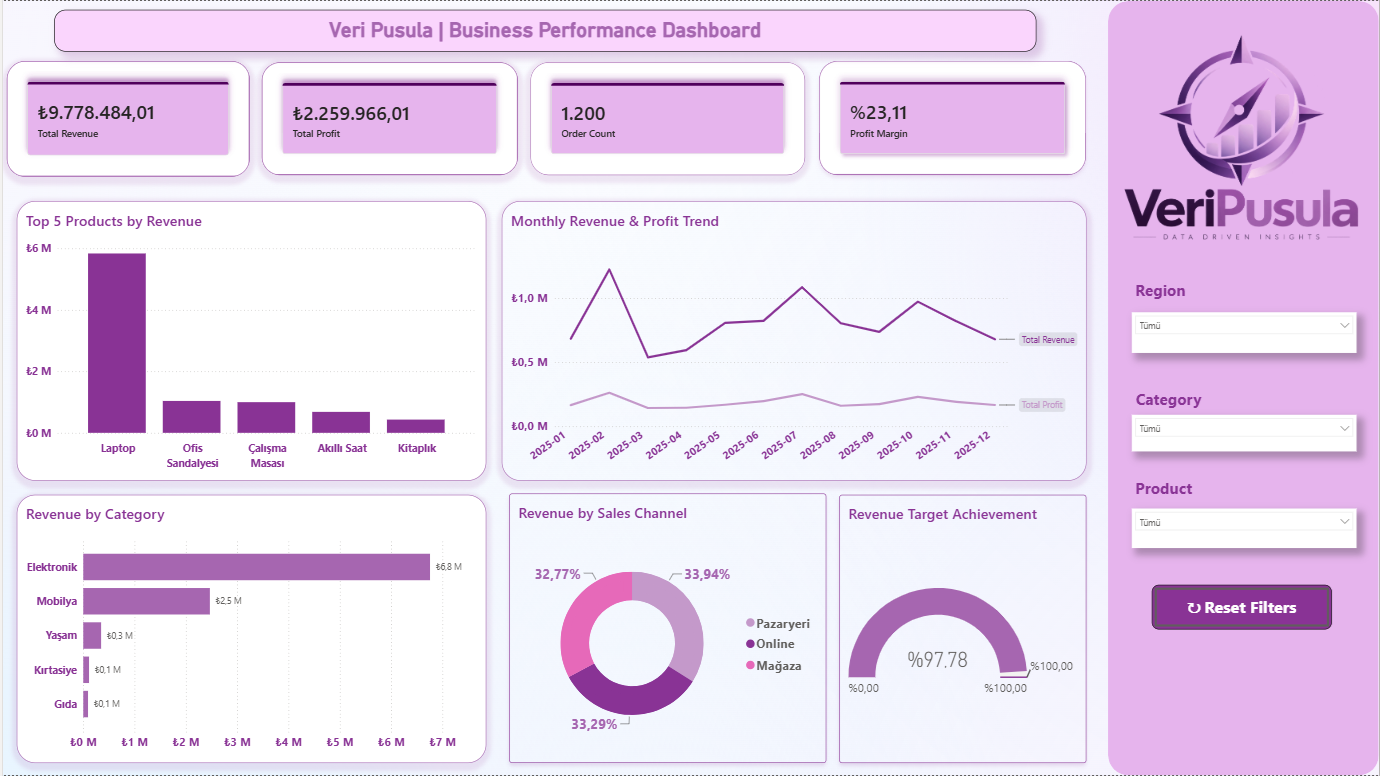

What the dashboard file says about the page in this screenshot:
{"tool":"powerbi","page":{"name":"1. sayfa","canvas":[1920,1080],"ordinal":0},"visuals":[{"type":"cardVisual","fields":{"Data":["clean_sales_data.Total Revenue"]},"box":[5.5,84.4,339.3,161.4],"z":0},{"type":"cardVisual","fields":{"Data":["clean_sales_data.Total Profit"]},"box":[361.3,86.2,357.7,157.7],"z":1000},{"type":"cardVisual","fields":{"Data":["clean_sales_data.Order Count"]},"box":[735.5,86.2,383.4,157.7],"z":2000},{"type":"cardVisual","fields":{"Data":["clean_sales_data.Profit Margin"]},"box":[1139.1,84.4,372.4,159.6],"z":3000},{"type":"lineChart","title":"Monthly Revenue & Profit Trend","fields":{"Category":["clean_sales_data.year_month"],"Y":["clean_sales_data.Total Profit","clean_sales_data.Total Revenue"]},"box":[695.2,278.8,816.2,390.7],"z":4000},{"type":"textbox","box":[71.5,12.8,1370.2,58.7],"z":5000},{"type":"clusteredBarChart","title":"Revenue by Category","fields":{"Category":["clean_sales_data.category"],"Y":["clean_sales_data.Total Revenue"]},"box":[18.3,689.7,654.8,374.2],"z":6000},{"type":"clusteredColumnChart","title":"Top 5 Products by Revenue","fields":{"Category":["clean_sales_data.product"],"Y":["clean_sales_data.Total Revenue"]},"box":[18.3,278.8,654.8,390.7],"z":7000},{"type":"shape","box":[1542.6,0,377.9,1080.4],"z":8000},{"type":"slicer","fields":{"Values":["clean_sales_data.category"]},"box":[1575.6,577.8,313.7,51.4],"z":9000},{"type":"slicer","fields":{"Values":["clean_sales_data.region"]},"box":[1575.6,434.7,313.7,56.9],"z":10000},{"type":"textbox","box":[1575.6,383.4,133.9,51.4],"z":11000},{"type":"textbox","box":[1560.9,535.6,124.7,42.2],"z":12000},{"type":"image","box":[1537.1,0,383,389],"z":13000},{"type":"slicer","fields":{"Values":["clean_sales_data.product"]},"box":[1575.6,708,313.7,55],"z":14000},{"type":"textbox","box":[1575.6,658.5,141.2,49.5],"z":15000},{"type":"donutChart","title":"Revenue by Sales Channel","fields":{"Category":["clean_sales_data.sales_channel"],"Y":["clean_sales_data.Total Revenue"]},"box":[706.2,687.8,442.1,376],"z":16000},{"type":"gauge","title":"Revenue Target Achievement","fields":{"Y":["clean_sales_data.Revenue Achievement %"]},"box":[1166.6,689.7,344.8,374.2],"z":16001},{"type":"actionButton","box":[1603.1,814.4,251.3,62.4],"z":16002}]}

Visuals, with their boxes in screenshot pixels (x1, y1, x2, y2), scaled from the page's 1920x1080 canvas onto the 1380x776 screenshot:
cardVisual - clean_sales_data.Total Revenue: (4,61,248,177)
cardVisual - clean_sales_data.Total Profit: (260,62,517,175)
cardVisual - clean_sales_data.Order Count: (529,62,804,175)
cardVisual - clean_sales_data.Profit Margin: (819,61,1086,175)
"Monthly Revenue & Profit Trend" lineChart: (500,200,1086,481)
textbox: (51,9,1036,51)
"Revenue by Category" clusteredBarChart: (13,496,484,764)
"Top 5 Products by Revenue" clusteredColumnChart: (13,200,484,481)
shape: (1109,0,1379,775)
slicer - clean_sales_data.category: (1132,415,1358,452)
slicer - clean_sales_data.region: (1132,312,1358,353)
textbox: (1132,275,1229,312)
textbox: (1122,385,1212,415)
image: (1105,0,1379,280)
slicer - clean_sales_data.product: (1132,509,1358,548)
textbox: (1132,473,1234,509)
"Revenue by Sales Channel" donutChart: (508,494,825,764)
"Revenue Target Achievement" gauge: (838,496,1086,764)
actionButton: (1152,585,1333,630)
